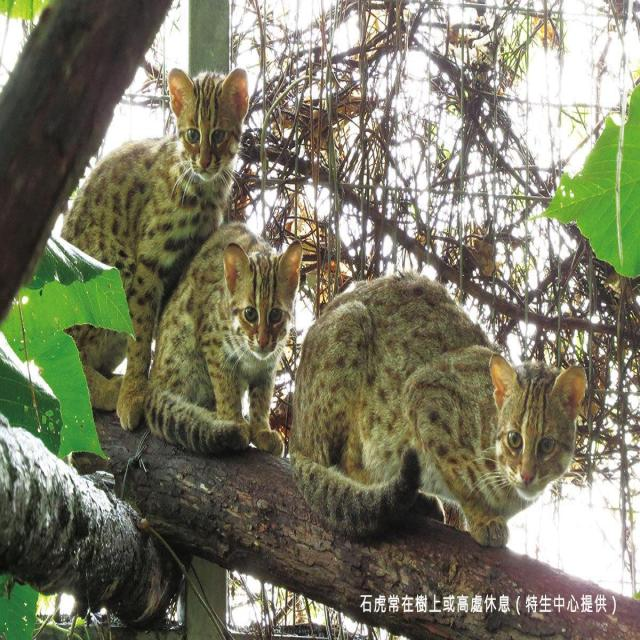leopard: (308, 254, 556, 600), (72, 54, 231, 240), (165, 220, 287, 415)
